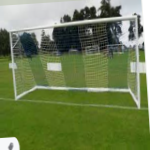goals: (6, 14, 143, 111)
